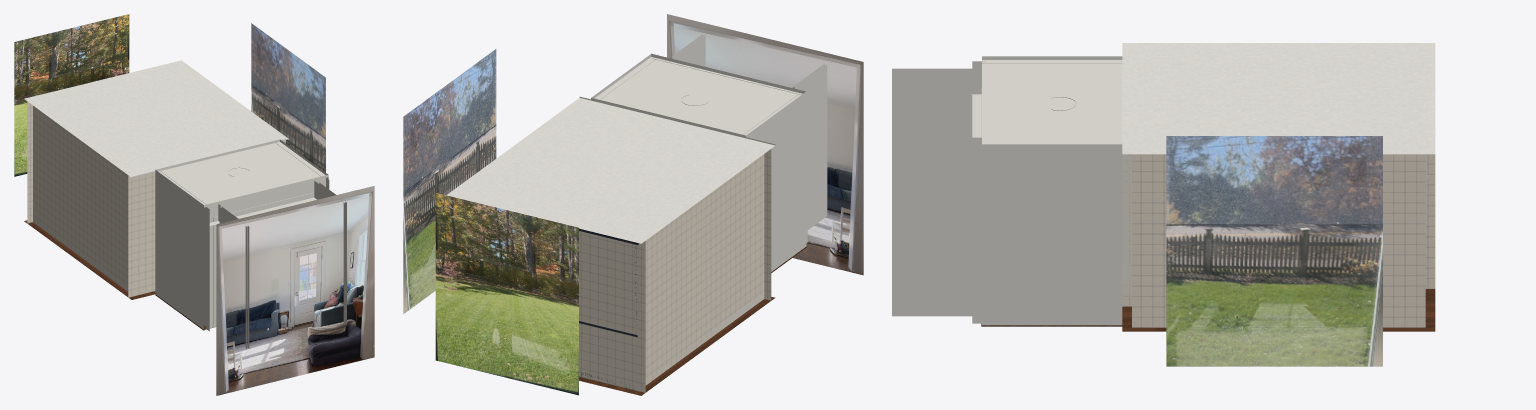
File: office.glb
3 views of the same model, side by side, from view 1: azimuth 30°, elevation 25°; view 2: azimuth 150°, elevation 25°; view 3: azimuth 270°, elevation 25° (orthographic). The views are drawn at different scales.
Visible parts, largest first — view 1: static, emissive; view 2: static, emissive; view 3: static, emissive.
Part boxes in pixels (bbox=[...]): static: bbox=[24, 60, 346, 348]; emissive: bbox=[14, 14, 374, 395]; static: bbox=[446, 34, 827, 395]; emissive: bbox=[403, 14, 863, 395]; static: bbox=[892, 43, 1435, 331]; emissive: bbox=[1166, 136, 1382, 366].
Bounding box in the file's own units: 4.37 × 4 × 7.85.
126 materials, 61 textured.
